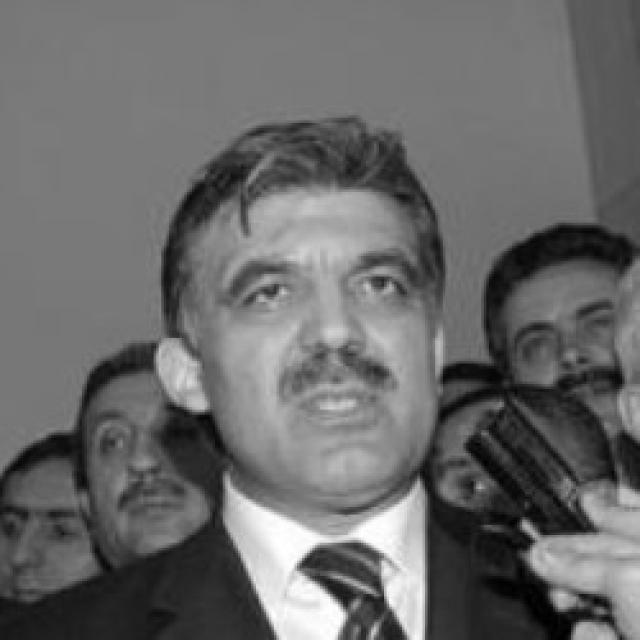real: (156, 126, 442, 504), (224, 260, 421, 318)
